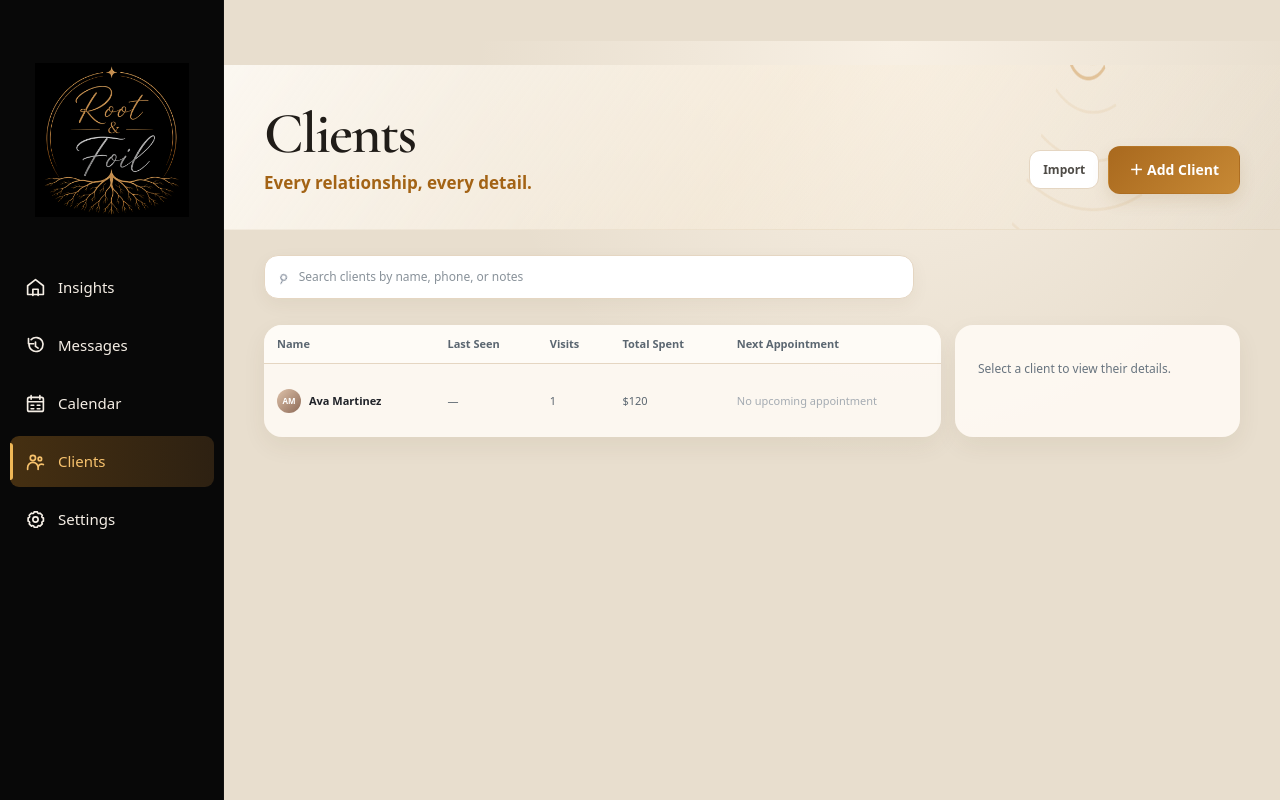
ClientsScreenClient › surfaces retryable list errors and a 404 detail as a missing client
This screenshot has width=1280, height=800.
(page scrolled)
Click the button "AM Ava Martinez": [329, 401] box [277,389,382,413]
(page scrolled)
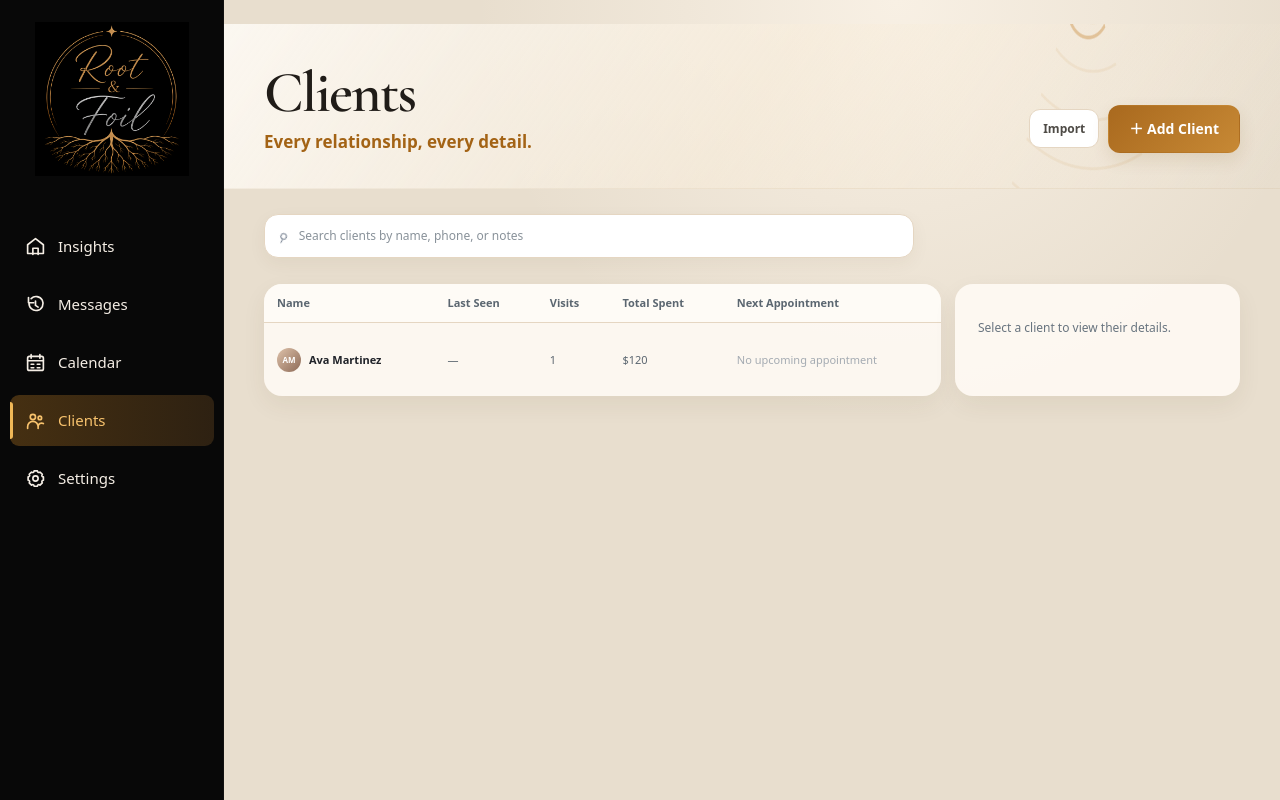
Check: the text "Select a client to view their details." is shown, box [978,319,1171,336]
